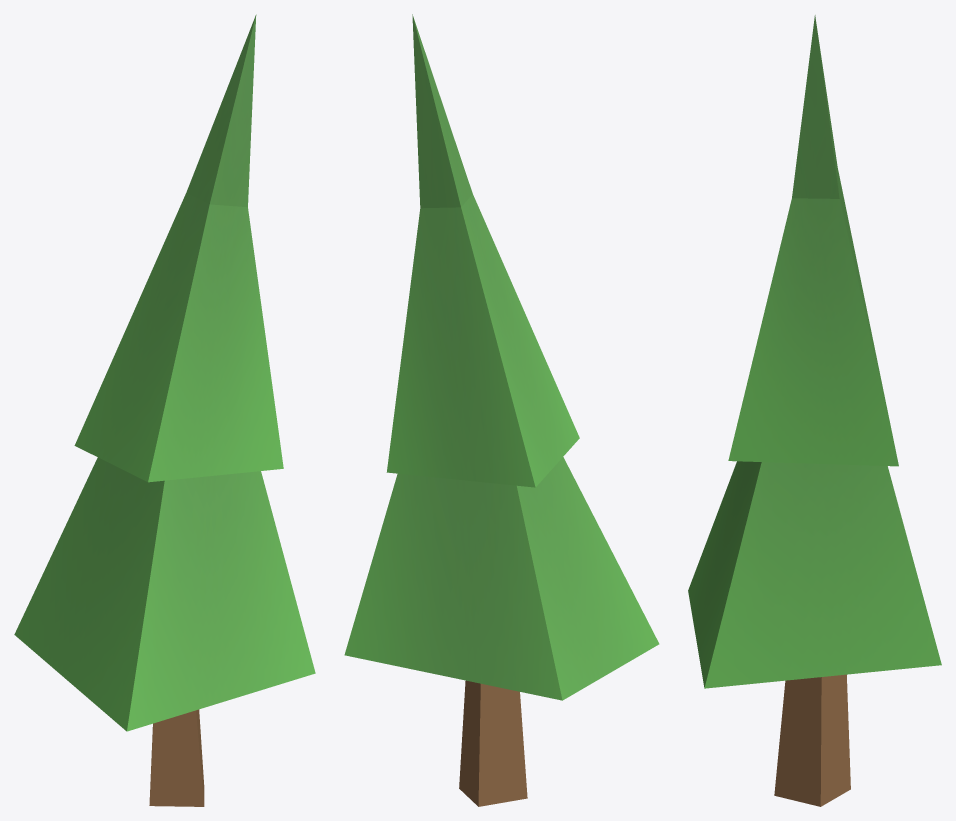
Rendered from Fir_Tree_OneSided_s_06.fbx.
3 views of the same model, side by side, from view 1: azimuth 30°, elevation 25°; view 2: azimuth 150°, elevation 25°; view 3: azimuth 270°, elevation 25° (orthographic). The views are drawn at different scales.
Visible parts, largest first — view 1: Fir_Tree_OneSided_s_06; view 2: Fir_Tree_OneSided_s_06; view 3: Fir_Tree_OneSided_s_06.
Part boxes in pixels (<box>): Fir_Tree_OneSided_s_06: <box>14,14,315,806</box>; Fir_Tree_OneSided_s_06: <box>344,14,659,806</box>; Fir_Tree_OneSided_s_06: <box>688,15,941,806</box>.
Size of the model in its own units: 43.42 by 154 by 43.27.
